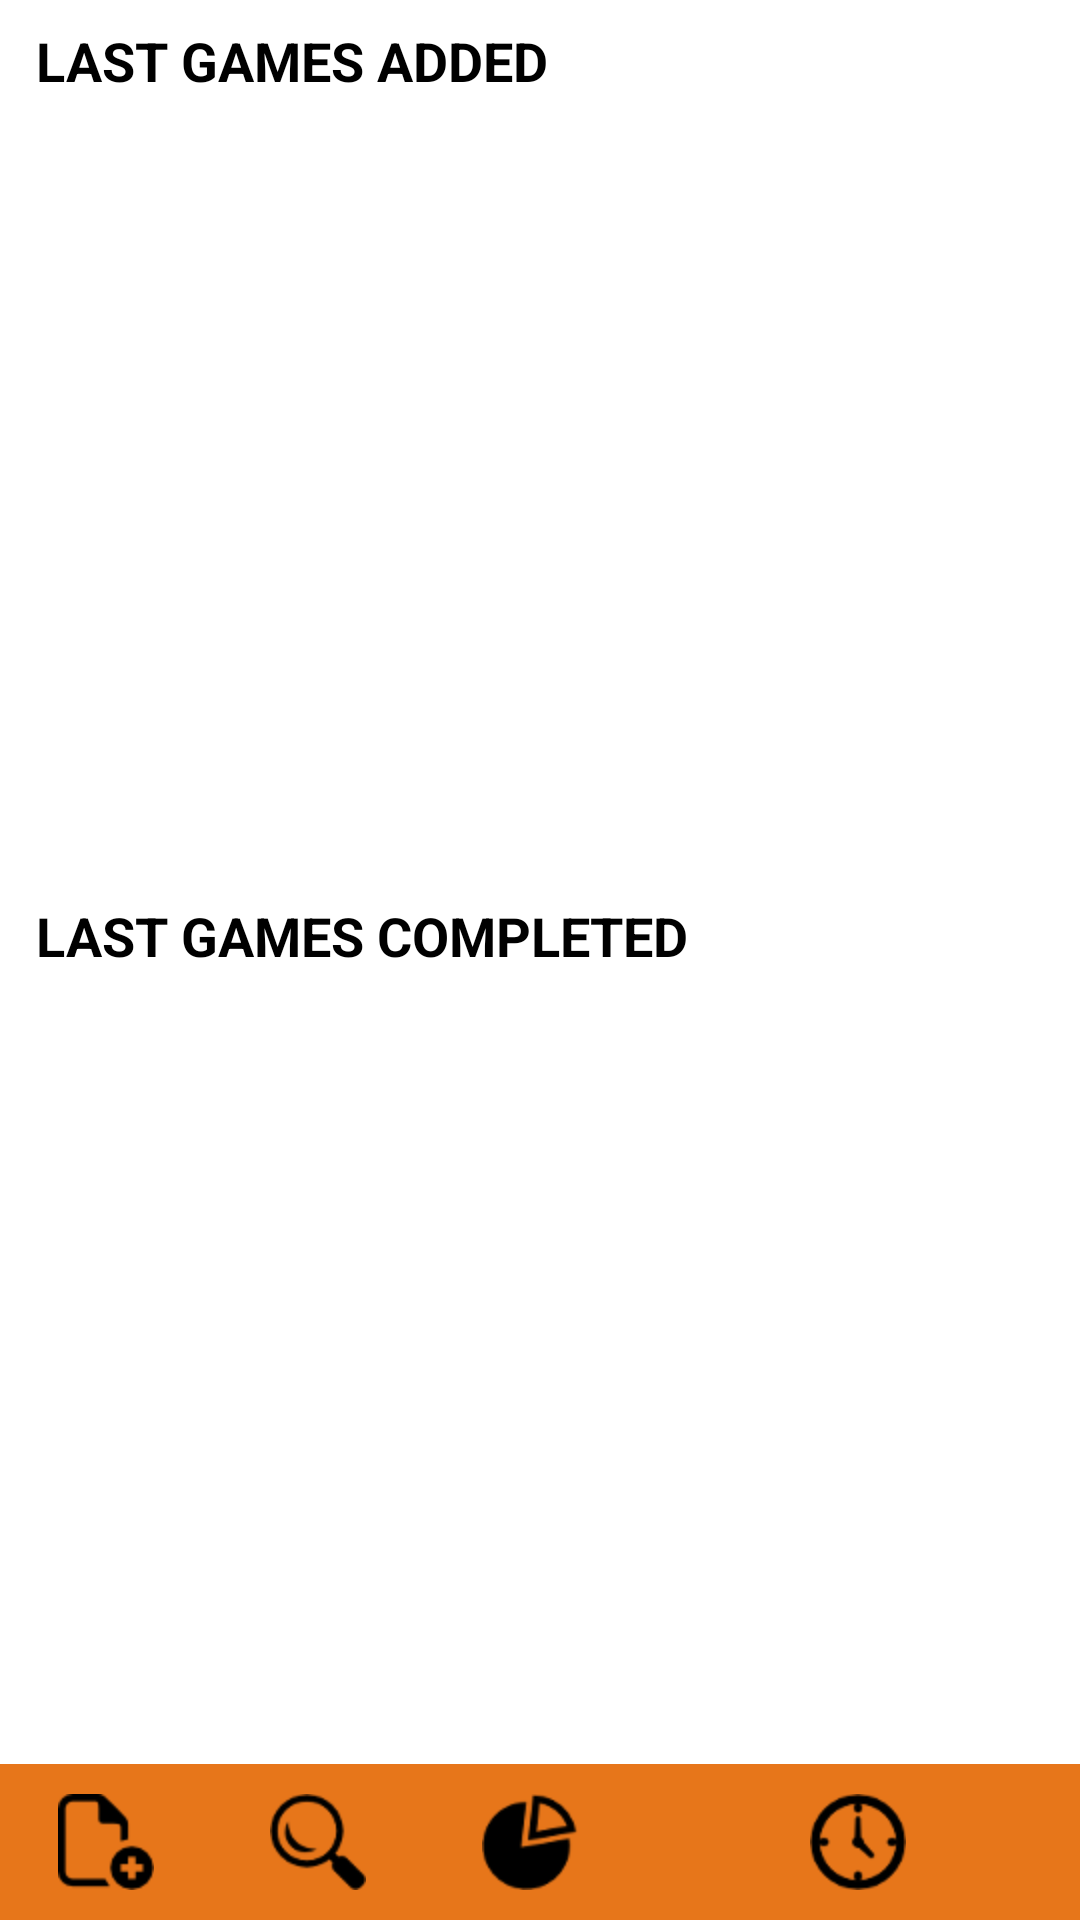

Screen size 1080×1920. Icon name, then its center in pixels as [x,y]:
buscar: [318,1842]
estadistica: [529,1842]
nuevo: [106,1842]
pendientes: [858,1842]
